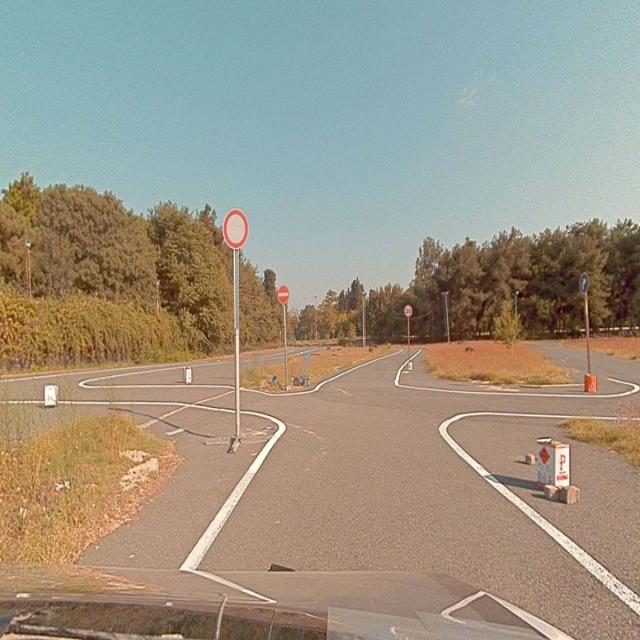20: (404, 305, 413, 317)
girisyok: (278, 285, 289, 303)
sag: (580, 272, 589, 293)
